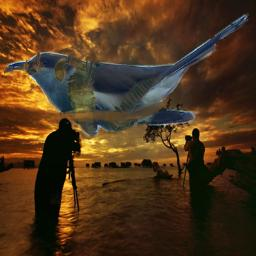Cuckoo: (4, 13, 256, 139)
